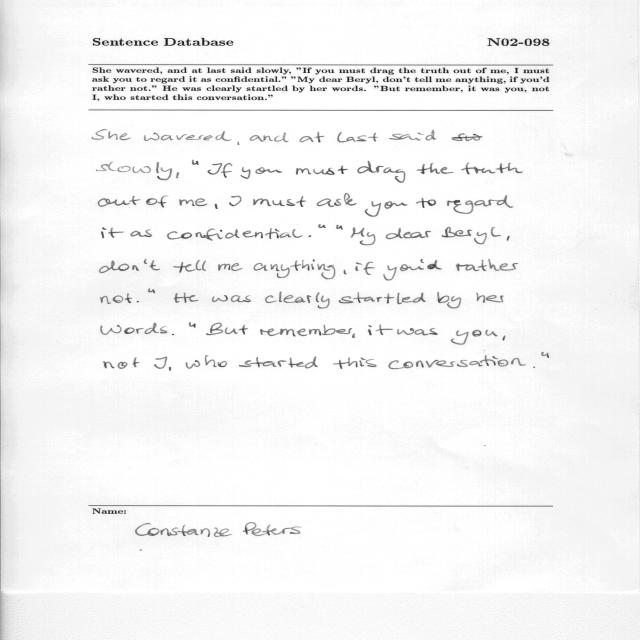word: (389, 355, 526, 369), (167, 228, 302, 241), (254, 260, 336, 280), (96, 162, 172, 180), (447, 195, 513, 214), (260, 325, 355, 338), (265, 291, 330, 309), (357, 161, 406, 183), (339, 292, 426, 304), (389, 130, 482, 141), (442, 227, 501, 244), (239, 357, 318, 369), (144, 131, 231, 141), (99, 259, 160, 273), (101, 323, 167, 335), (461, 163, 523, 175), (456, 260, 518, 272), (383, 264, 424, 281), (451, 330, 497, 345), (365, 201, 407, 217), (253, 196, 306, 207), (186, 355, 227, 369), (317, 193, 357, 207), (333, 357, 377, 369), (240, 167, 282, 179), (206, 323, 248, 335), (386, 228, 431, 239), (98, 196, 141, 207), (296, 166, 348, 175), (351, 228, 376, 246), (92, 130, 131, 141), (174, 260, 207, 273), (104, 357, 139, 369), (337, 132, 378, 142), (417, 163, 454, 174), (250, 133, 289, 143), (437, 292, 461, 308), (208, 163, 233, 178), (101, 293, 132, 304), (397, 328, 438, 335), (300, 132, 325, 143), (212, 295, 251, 302), (476, 293, 503, 303), (146, 196, 168, 208), (355, 262, 375, 275), (174, 293, 199, 303), (102, 227, 124, 238), (179, 199, 207, 207), (421, 260, 442, 270), (416, 198, 436, 208), (218, 263, 243, 271), (130, 229, 152, 237), (376, 325, 393, 335), (154, 356, 167, 369), (229, 196, 242, 207), (541, 352, 550, 358), (368, 325, 372, 335), (192, 160, 199, 165), (336, 225, 343, 230), (189, 323, 196, 328), (318, 224, 326, 228), (148, 289, 155, 293), (502, 336, 506, 341), (176, 172, 179, 178), (215, 204, 218, 209), (507, 236, 510, 241), (344, 270, 347, 274), (169, 367, 171, 371), (238, 142, 240, 145), (309, 235, 312, 237), (136, 301, 139, 302), (172, 334, 174, 335), (534, 367, 536, 368)
